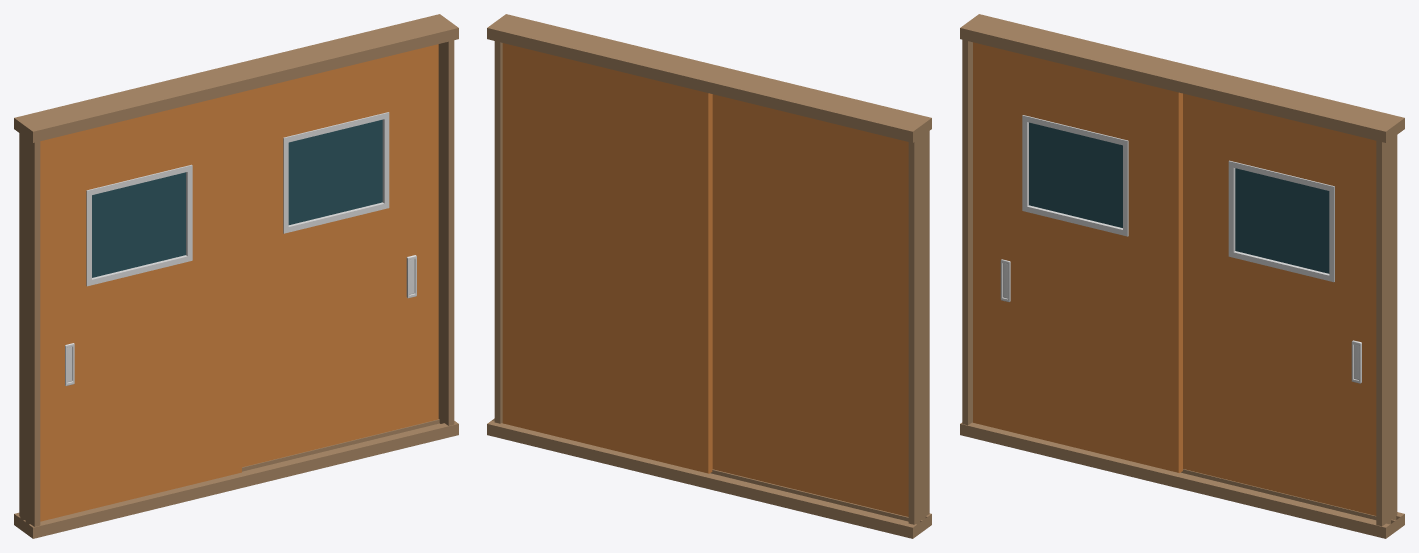
File: door.fbx
The picture shows the model from 3 angles, left to right: view 1: azimuth 30°, elevation 25°; view 2: azimuth 150°, elevation 25°; view 3: azimuth 330°, elevation 25°; orthographic projection.
Visible parts, largest first — view 1: Cube.003, Cube.001, Cube.006, Cube.008, Cube.005, Cube.007; view 2: Cube.001, Cube.003, Cube.006, Cube.008, Cube.005, Cube.007; view 3: Cube.003, Cube.001, Cube.006, Cube.007, Cube.005, Cube.008.
Part boxes in pixels (x1,y1,x2,y2): Cube.003: [40, 92, 241, 521]; Cube.001: [242, 44, 438, 467]; Cube.006: [14, 14, 458, 142]; Cube.008: [19, 133, 40, 526]; Cube.005: [14, 419, 458, 538]; Cube.007: [438, 40, 454, 425]; Cube.001: [502, 43, 712, 473]; Cube.003: [712, 94, 908, 516]; Cube.006: [487, 14, 931, 142]; Cube.008: [908, 131, 929, 524]; Cube.005: [487, 418, 931, 538]; Cube.007: [494, 41, 502, 423]; Cube.003: [973, 42, 1182, 472]; Cube.001: [1183, 93, 1376, 515]; Cube.006: [960, 14, 1404, 142]; Cube.007: [1376, 135, 1397, 526]; Cube.005: [960, 422, 1404, 538]; Cube.008: [962, 39, 972, 425].
Bounding box in the file's own units: 244 × 18.86 × 223.
